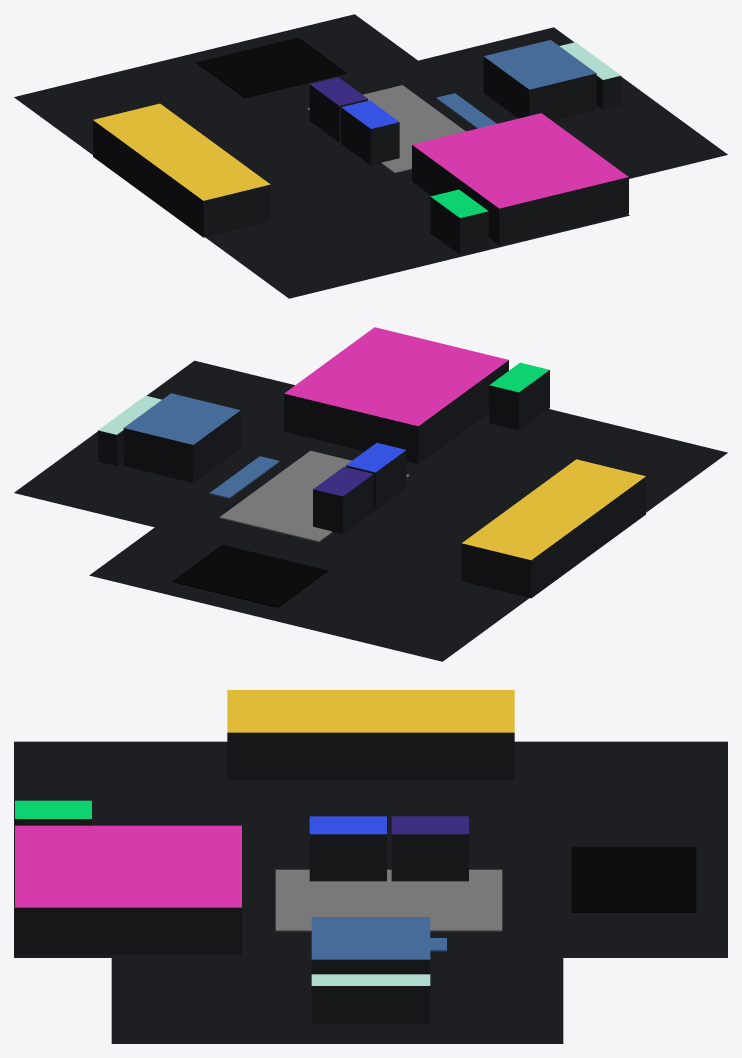
Rendered from Piso1_AgoraMap.glb.
3 renders of one model, top to bottom at view 1: azimuth 30°, elevation 25°; view 2: azimuth 150°, elevation 25°; view 3: azimuth 270°, elevation 25°, orthographic. The views are drawn at different scales.
Parts seen in each view (by area): view 1: Cube.021, Cube.033, Cube.034, Cube.025, Cube.023, Cube.031, Cube.028, Cube.030, Cube.038, Cube.024, Cube.026, Cube.027 (+6 smaller); view 2: Cube.021, Cube.033, Cube.034, Cube.025, Cube.023, Cube.031, Cube.030, Cube.028, Cube.038, Cube.024, Cube.027, Cube.026 (+6 smaller); view 3: Cube.021, Cube.033, Cube.023, Cube.034, Cube.025, Cube.030, Cube.031, Cube.038, Cube.029, Cube.026, Cube.027, Cube.028 (+4 smaller).
Boxes of the visible parts, bbox=[...] form: Cube.021: bbox=[14, 14, 727, 298]; Cube.033: bbox=[412, 113, 628, 208]; Cube.034: bbox=[93, 103, 270, 200]; Cube.025: bbox=[412, 145, 628, 245]; Cube.023: bbox=[93, 120, 270, 237]; Cube.031: bbox=[196, 37, 346, 98]; Cube.028: bbox=[483, 56, 596, 120]; Cube.030: bbox=[307, 85, 465, 173]; Cube.038: bbox=[484, 40, 595, 89]; Cube.024: bbox=[430, 196, 488, 254]; Cube.026: bbox=[341, 107, 399, 165]; Cube.027: bbox=[309, 84, 367, 142]; Cube.021: bbox=[14, 360, 727, 661]; Cube.033: bbox=[284, 327, 508, 426]; Cube.034: bbox=[462, 459, 645, 560]; Cube.025: bbox=[284, 360, 508, 464]; Cube.023: bbox=[461, 476, 645, 598]; Cube.031: bbox=[172, 544, 327, 607]; Cube.030: bbox=[219, 450, 409, 542]; Cube.028: bbox=[123, 410, 240, 482]; Cube.038: bbox=[124, 393, 240, 444]; Cube.024: bbox=[489, 370, 549, 430]; Cube.027: bbox=[313, 474, 373, 534]; Cube.026: bbox=[346, 450, 406, 510]; Cube.021: bbox=[14, 741, 727, 1043]; Cube.033: bbox=[15, 825, 241, 907]; Cube.023: bbox=[227, 732, 514, 780]; Cube.034: bbox=[227, 690, 514, 732]; Cube.025: bbox=[15, 907, 241, 955]; Cube.030: bbox=[275, 869, 502, 931]; Cube.031: bbox=[571, 847, 696, 912]; Cube.038: bbox=[311, 917, 430, 959]; Cube.029: bbox=[311, 986, 430, 1024]; Cube.026: bbox=[309, 834, 386, 881]; Cube.027: bbox=[391, 834, 468, 881]; Cube.028: bbox=[311, 959, 430, 974].
Size of the model in its own units: 2.01 by 0.1543 by 2.
